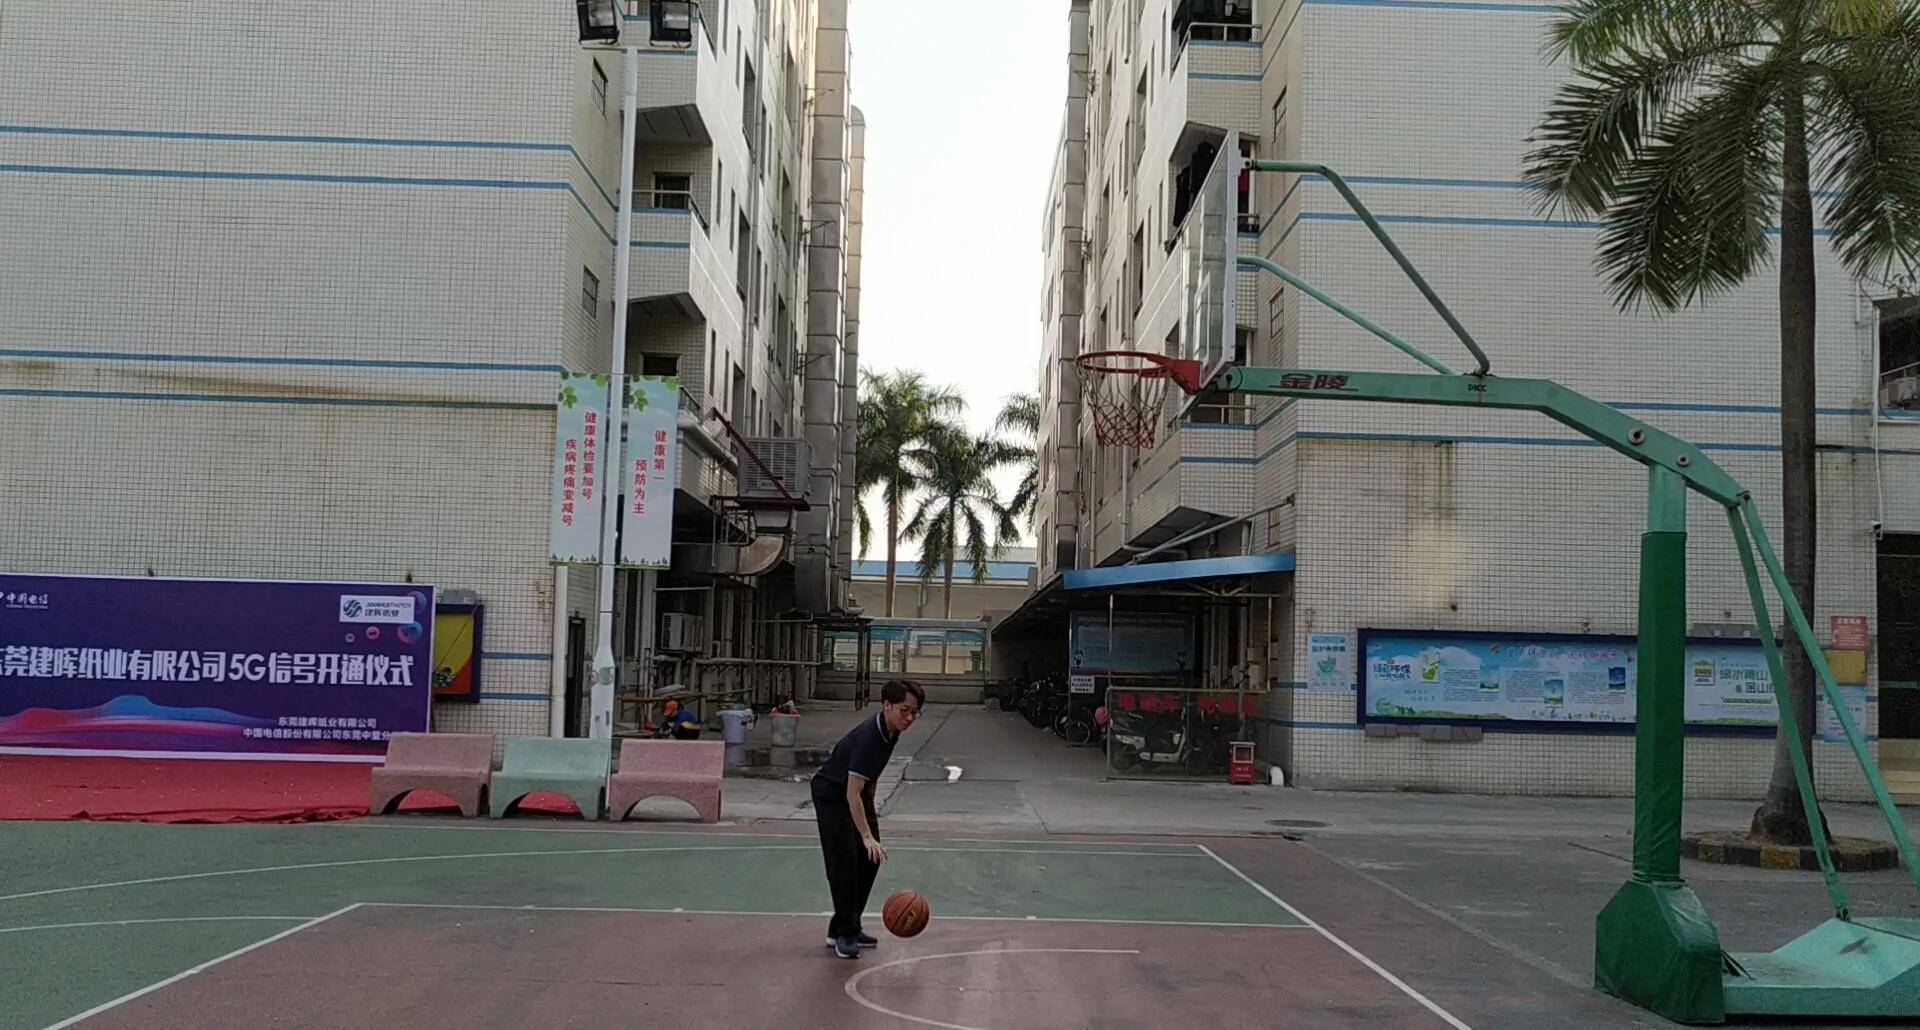basketball: (880, 886, 936, 939)
